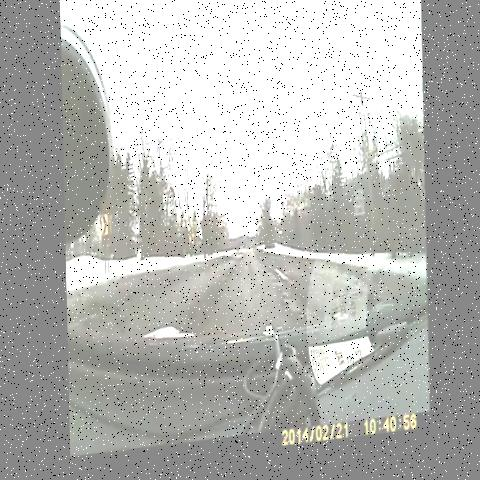pothole: (279, 283, 307, 329), (262, 269, 280, 300), (222, 264, 240, 285), (217, 271, 231, 291)
